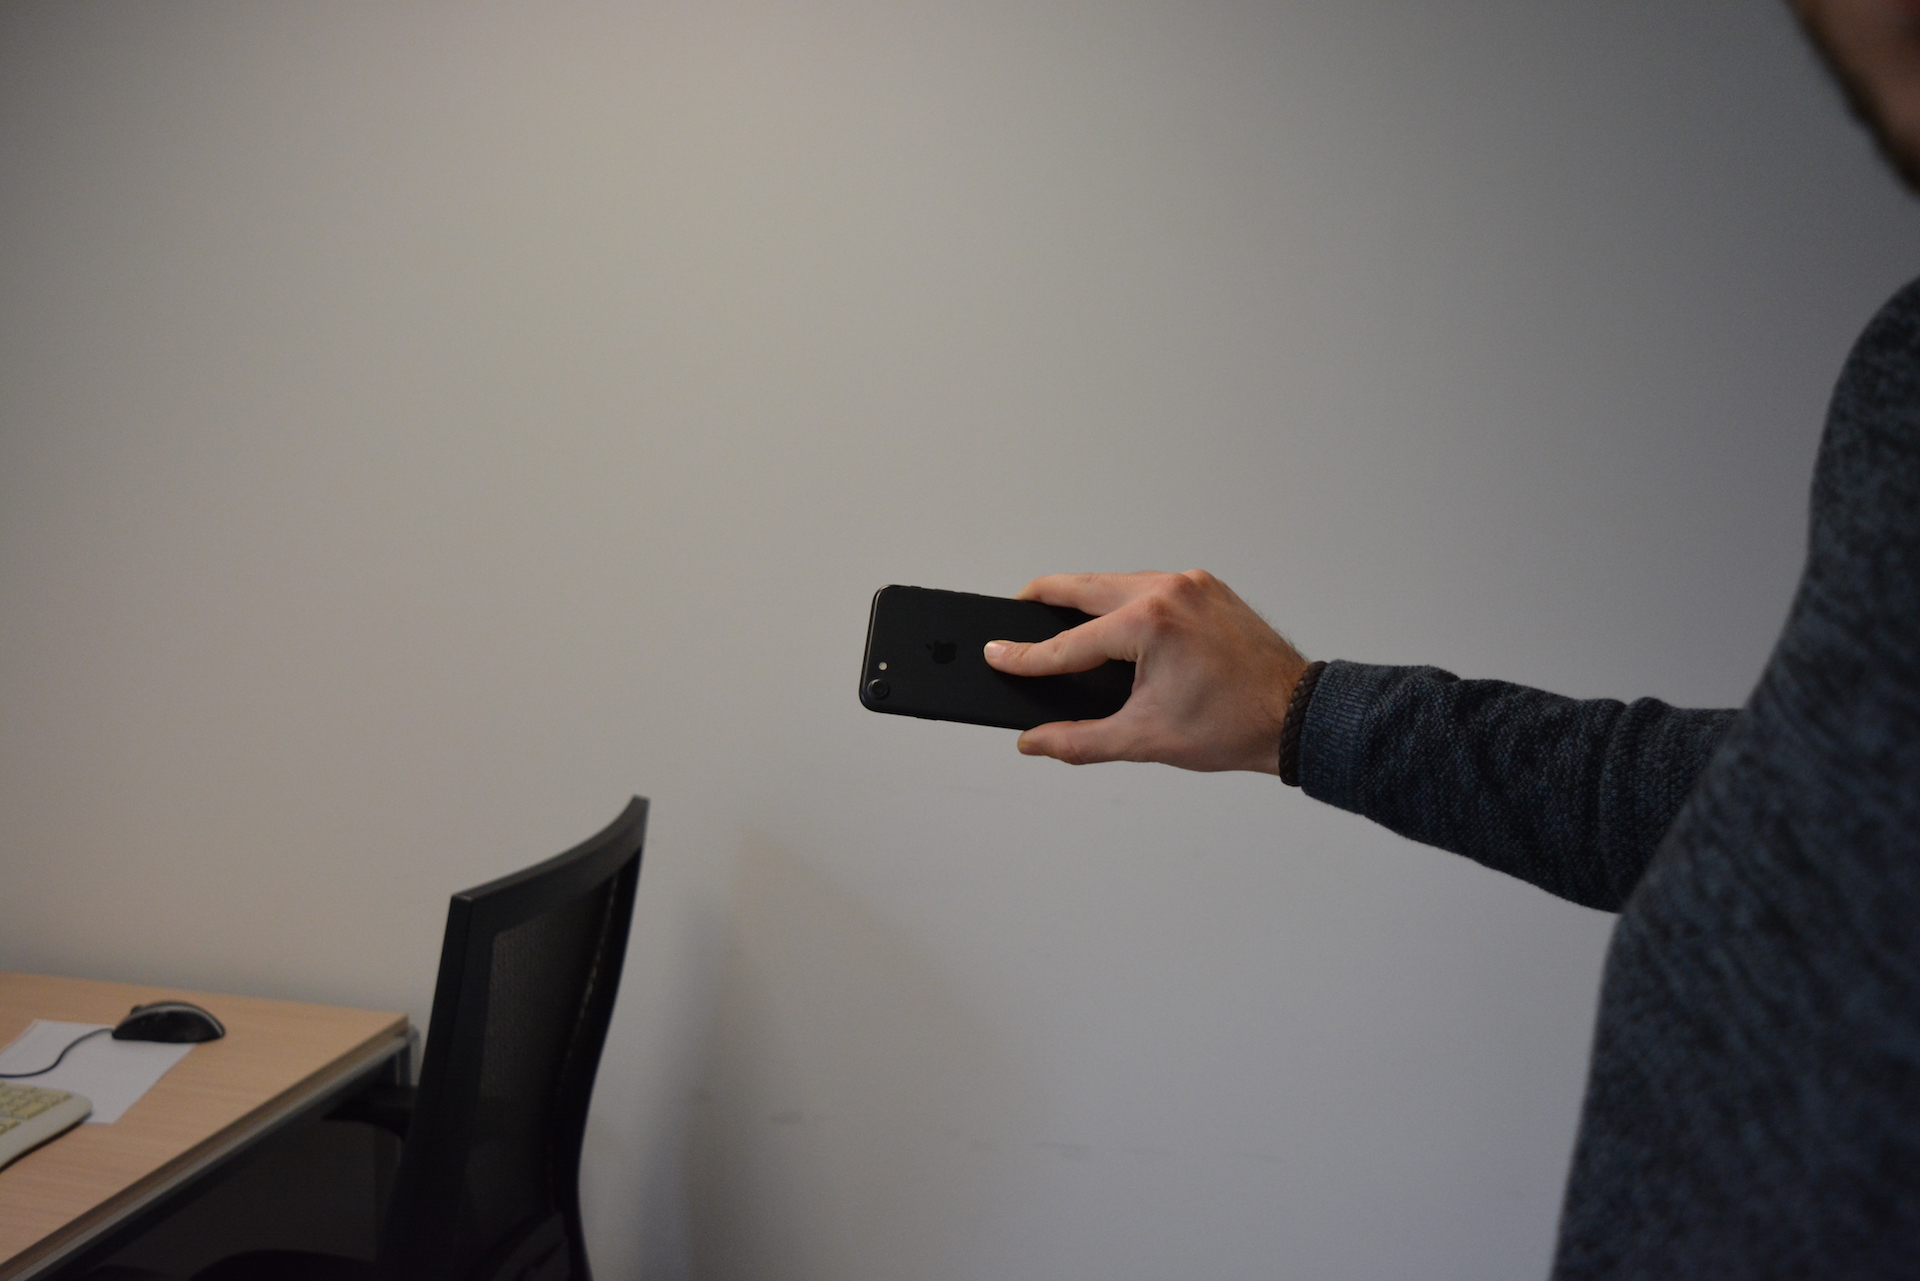smartphone: (856, 582, 1138, 733)
